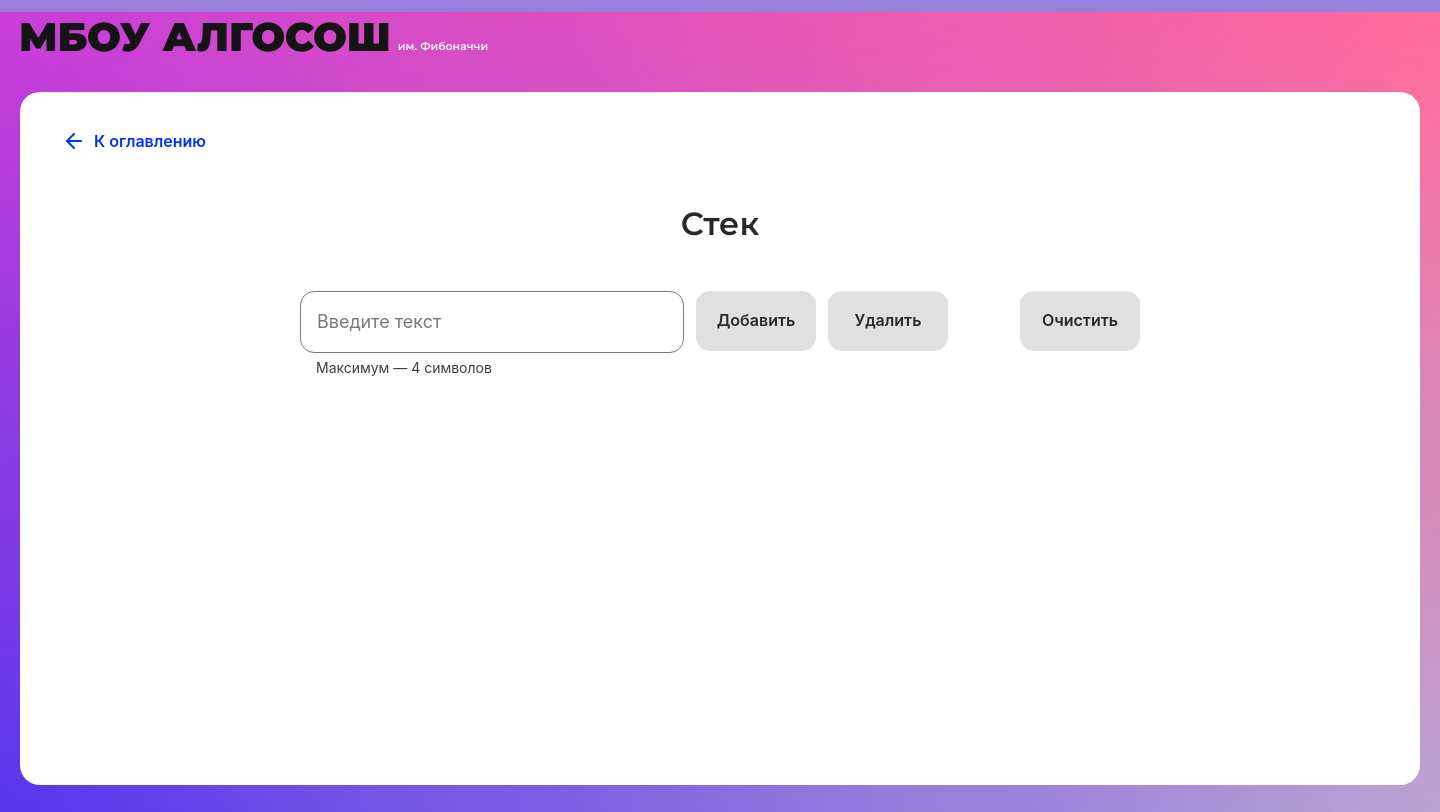
Testing <<Stack>> page › should current add element in stack
Note: add first element
Type "dog" into the field with placeholder "Введите текст" at x=492, y=322, box [300,291,684,353]
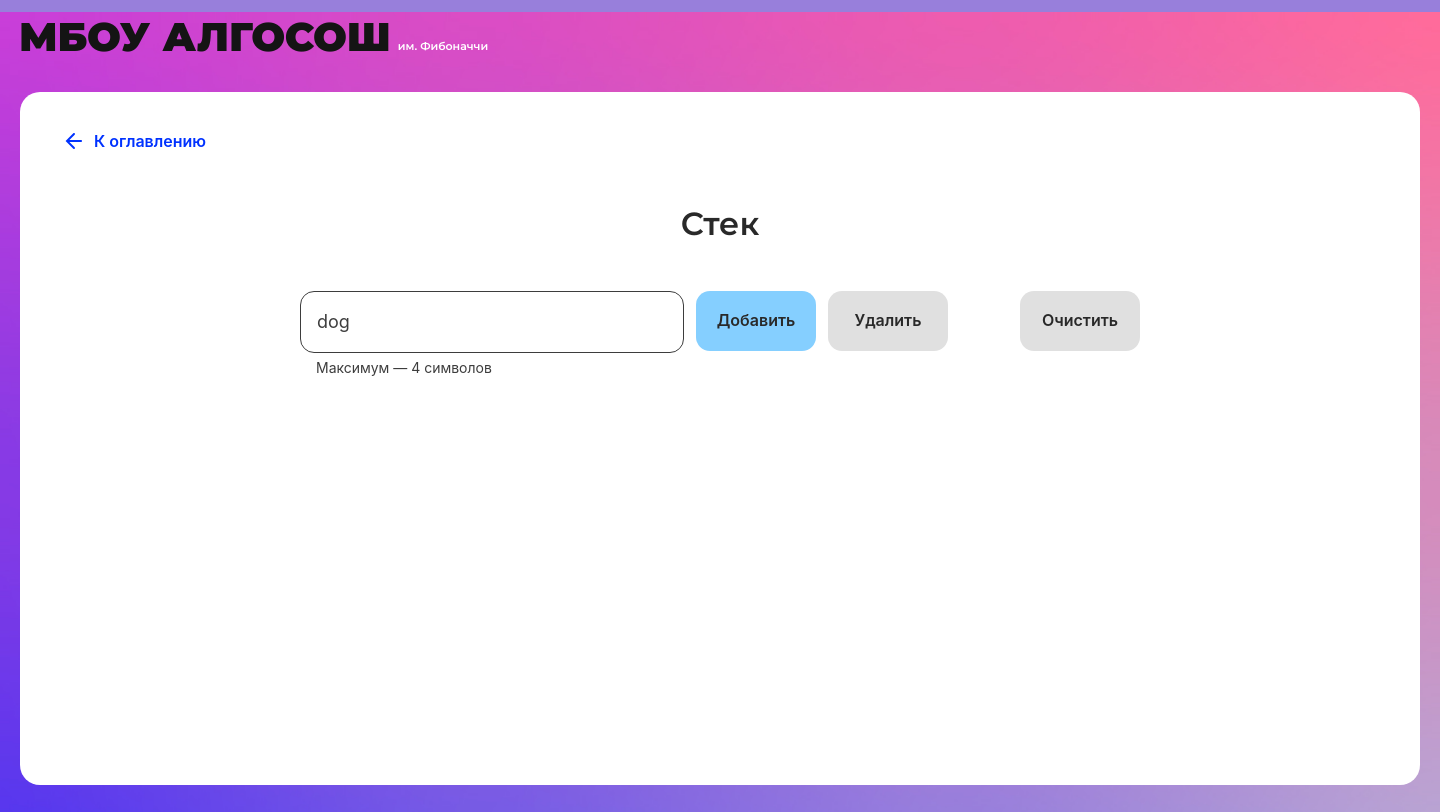
Expected: the element with id "stack-add-el-button" is enabled
Click the button with id "stack-add-el-button" at x=756, y=321, box [696,291,816,351]
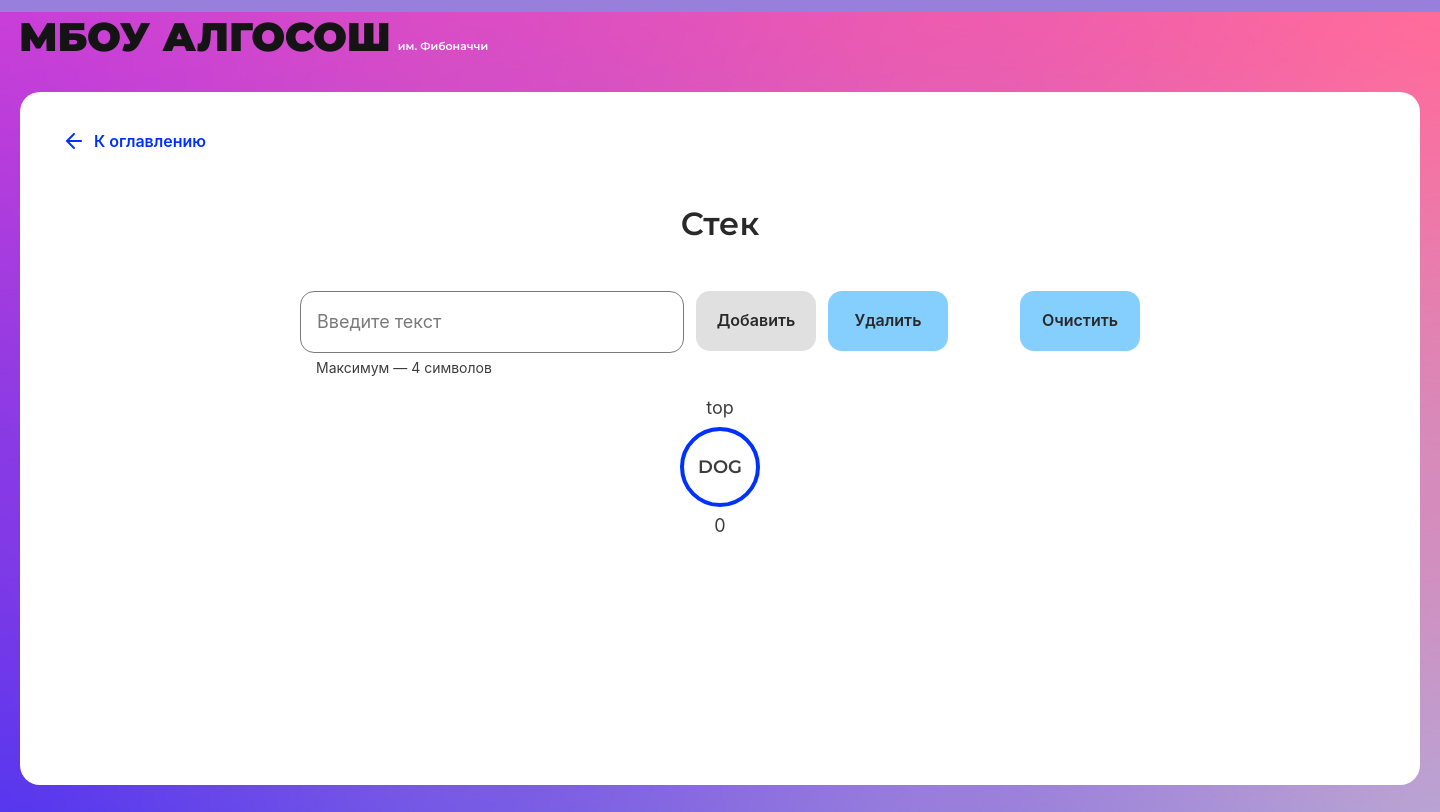
Expected: the element with id "stack-delete-one-el-button" is enabled
Now the field with placeholder "Введите текст" is empty
Now the button with id "stack-add-el-button" is disabled, box [696,291,816,351]
Note: add second element
Type "cat" into the field with placeholder "Введите текст" at x=492, y=322, box [300,291,684,353]
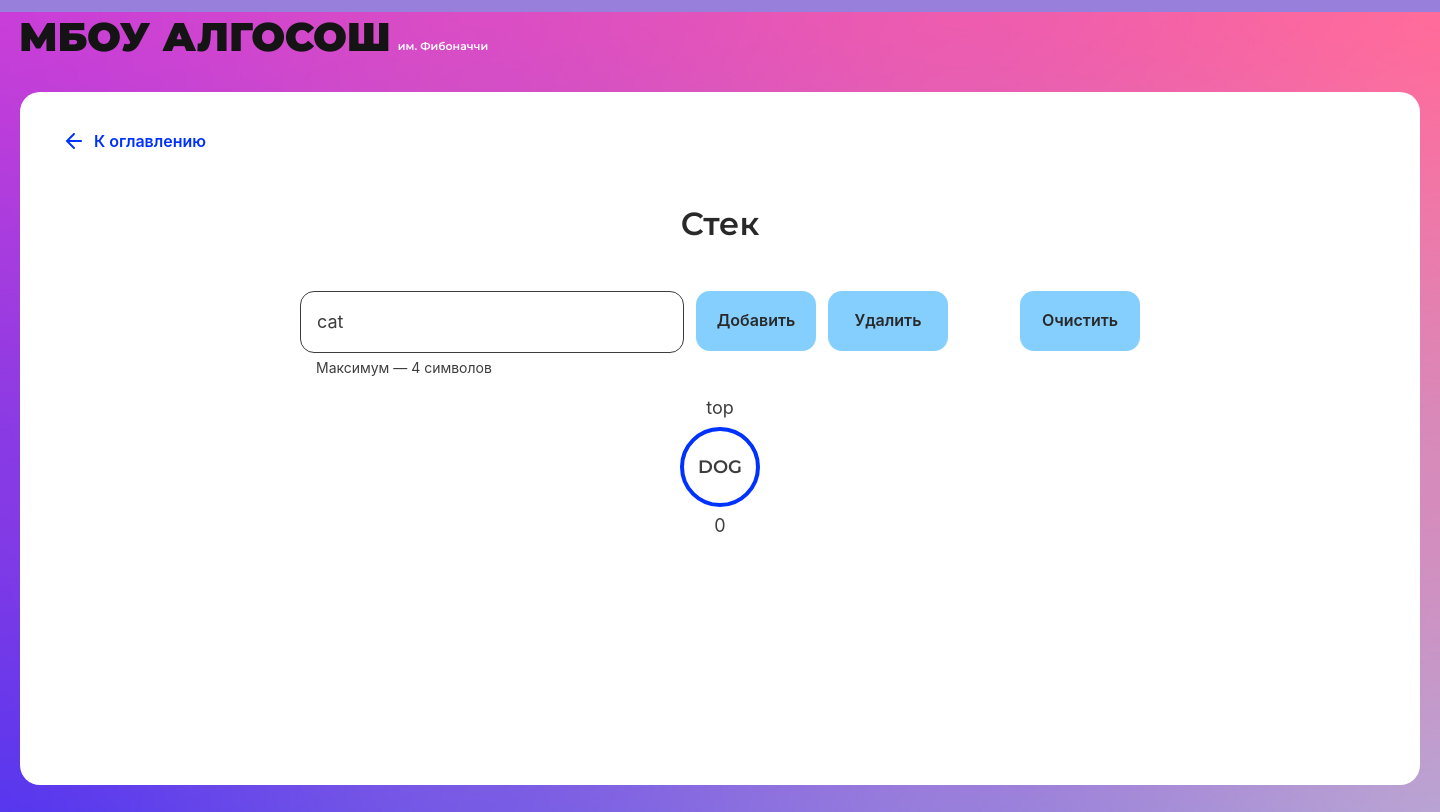
Expected: the element with id "stack-add-el-button" is enabled
Click the button with id "stack-add-el-button" at x=756, y=321, box [696,291,816,351]
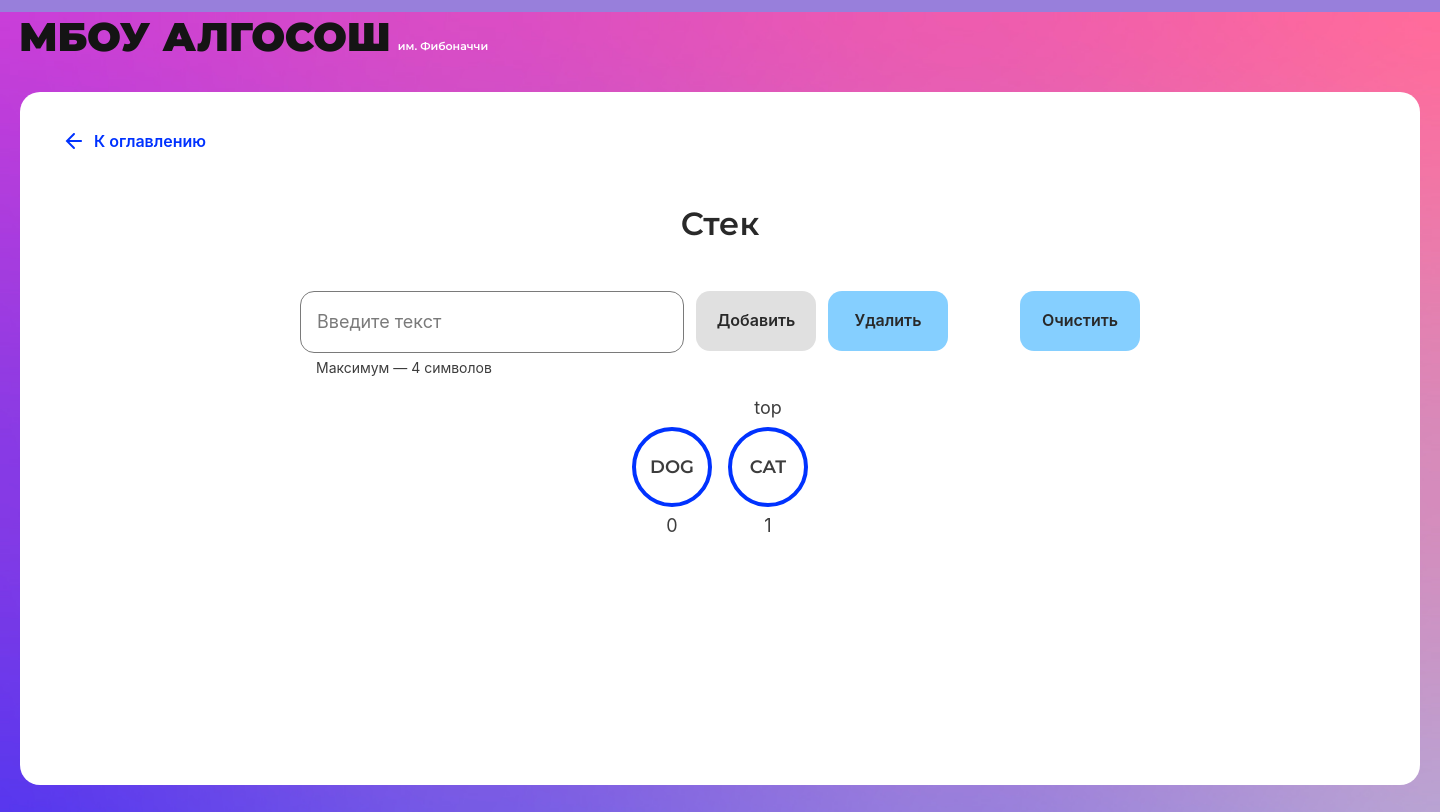
Now the text "dog" is shown, box [650,456,694,478]
Now the field with placeholder "Введите текст" is empty, box [300,291,684,353]
Now the text "cat" is shown, box [750,456,786,478]
